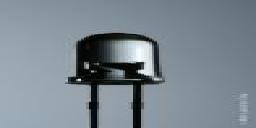LED: (68, 30, 164, 128)
